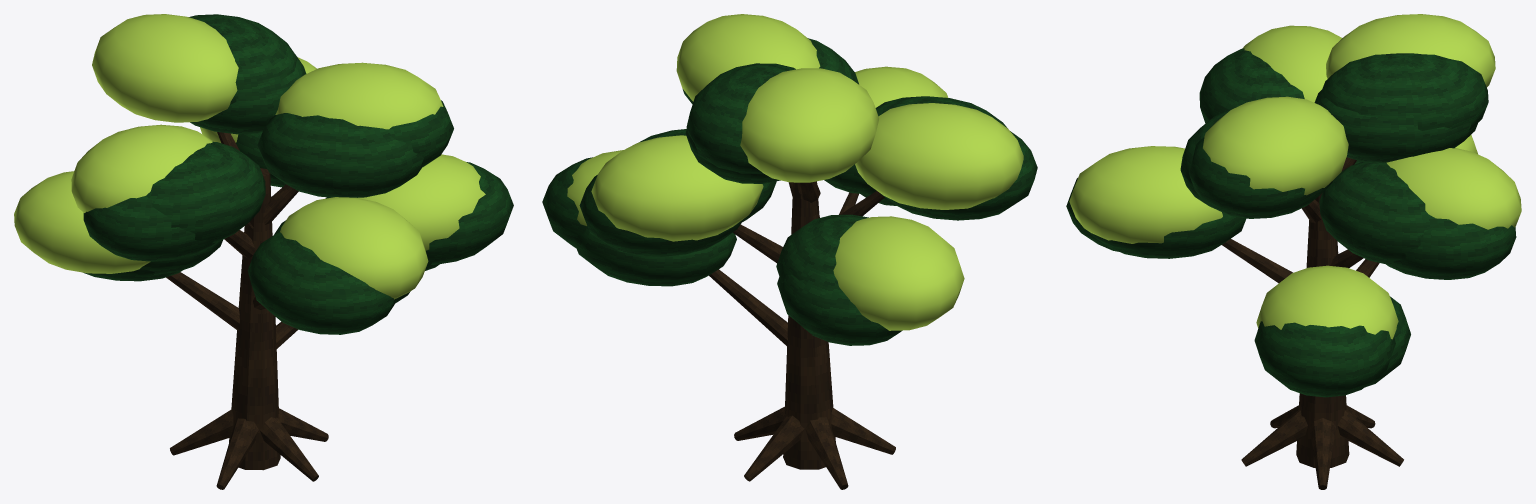
Rendered from planta-3.glb.
3 views of the same model, side by side, from view 1: azimuth 30°, elevation 25°; view 2: azimuth 150°, elevation 25°; view 3: azimuth 270°, elevation 25° (orthographic).
Visible parts, largest first — view 1: Folhagem.008, Folhagem.005, Tronco.009; view 2: Folhagem.008, Folhagem.005, Tronco.009; view 3: Folhagem.005, Folhagem.008, Tronco.009.
Part boxes in pixels (x1=…): Folhagem.008: x1=14, y1=14, x2=485, y2=299; Folhagem.005: x1=83, y1=14, x2=513, y2=334; Tronco.009: x1=166, y1=132, x2=328, y2=489; Folhagem.008: x1=567, y1=14, x2=1023, y2=330; Folhagem.005: x1=542, y1=38, x2=1037, y2=345; Tronco.009: x1=709, y1=181, x2=895, y2=489; Folhagem.005: x1=1066, y1=48, x2=1516, y2=397; Folhagem.008: x1=1069, y1=14, x2=1521, y2=339; Tronco.009: x1=1222, y1=157, x2=1403, y2=489.
Size of the model in its own units: 1.3 by 1.16 by 1.15.
3 materials, 2 textured.
